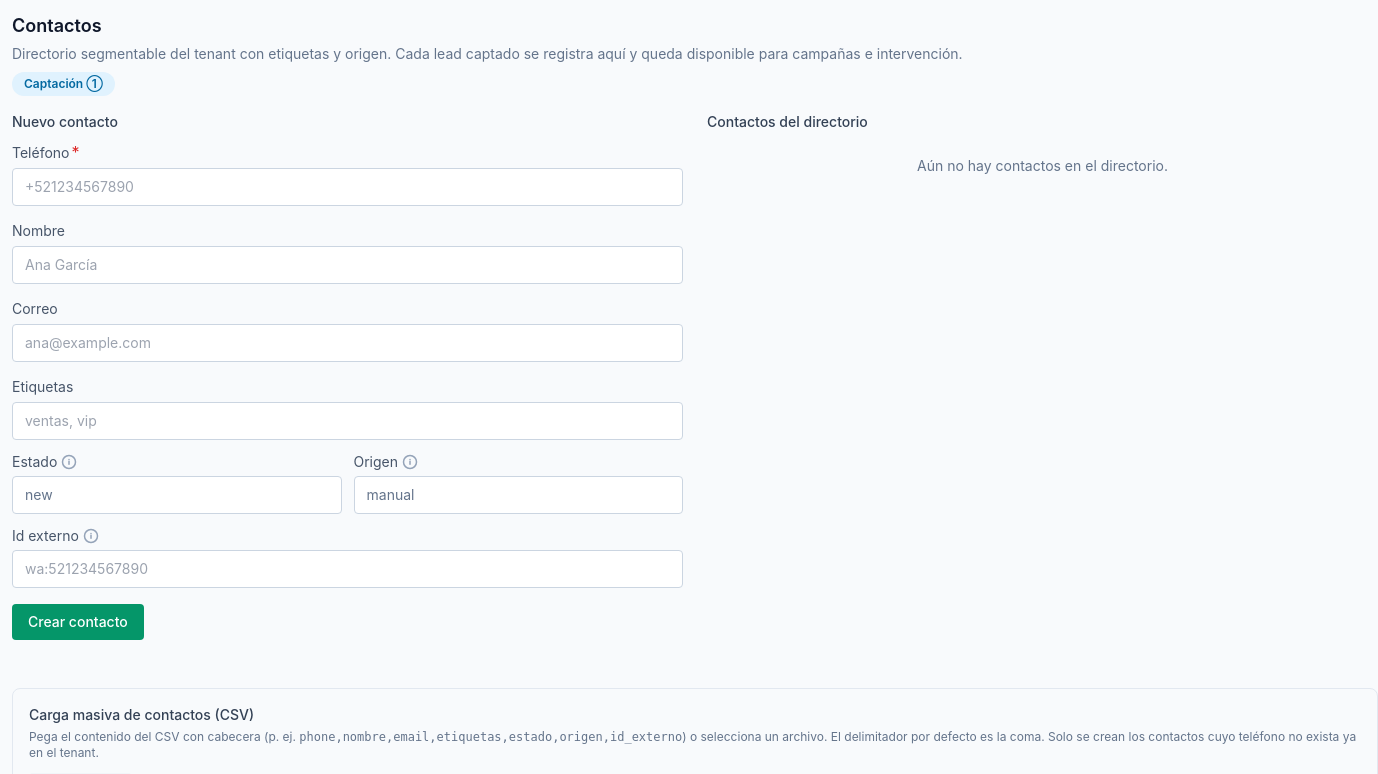
it: ContactsSection › valida el teléfono obligatorio antes de crear
This screenshot has width=1378, height=774.
Check: the text "Aún no hay contactos en el directorio." is shown, box [917,157,1168,174]
Click the button "Crear contacto" at (78, 622), box [12,604,144,640]
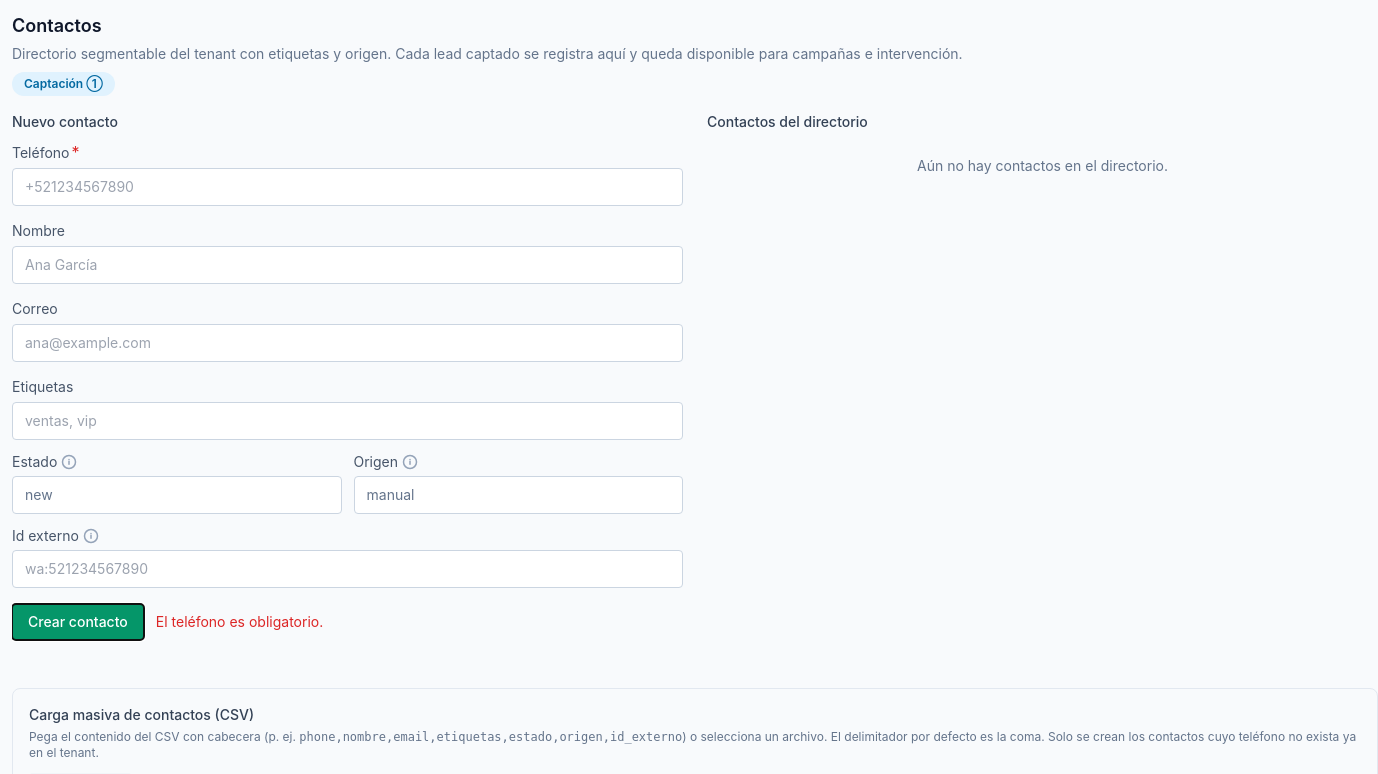
Check: the text "El teléfono es obligatorio." is shown, box [156,613,323,630]
